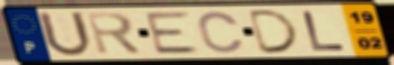C: (196, 10, 247, 55)
D: (246, 8, 303, 55)
E: (143, 10, 203, 56)
L: (299, 10, 349, 53)
R: (84, 11, 147, 58)
U: (35, 10, 95, 59)
